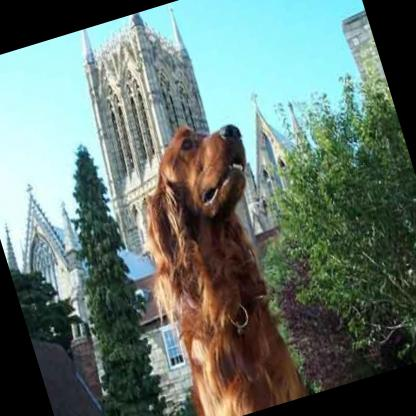Irish_setter: (104, 108, 318, 416)
